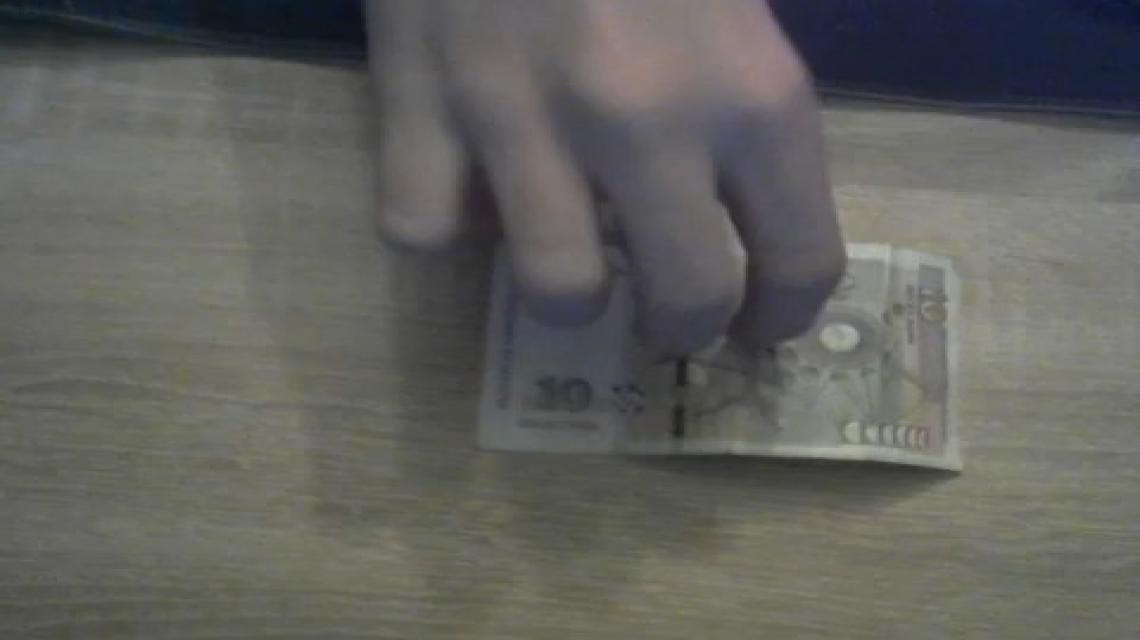10leva: (484, 244, 964, 473)
